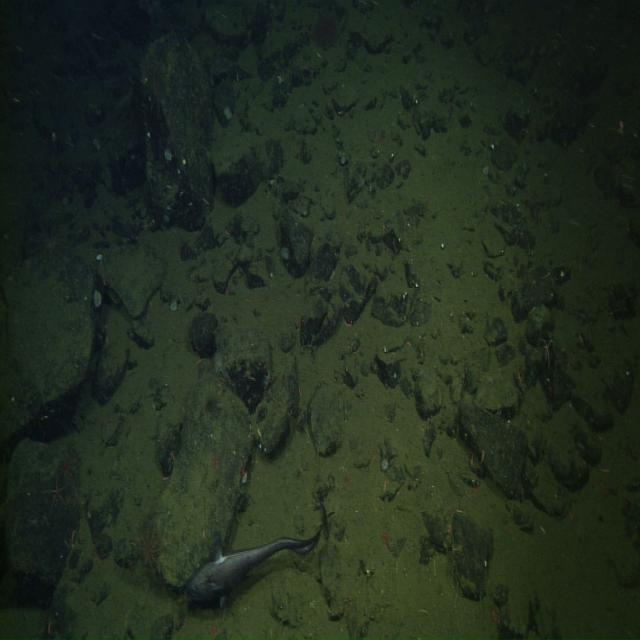Brittle Star: (42, 474, 70, 514)
